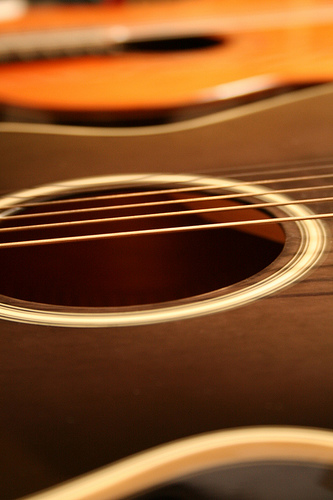guitar: (1, 89, 333, 499)
